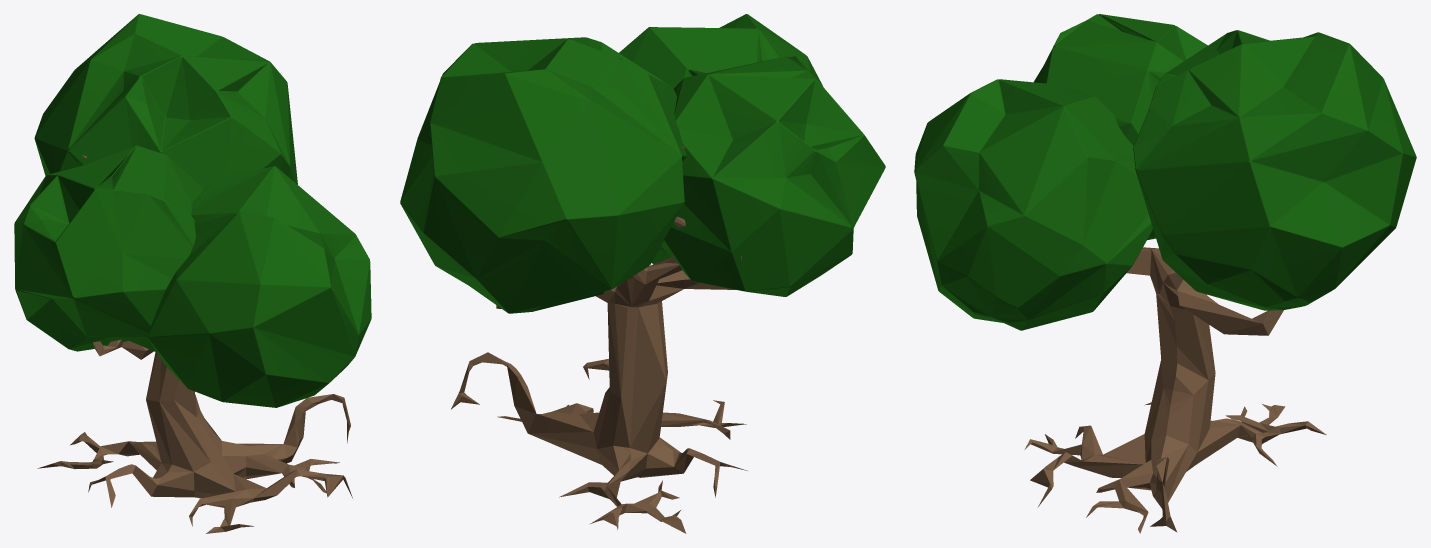
The model's file is Tree.fbx.
The picture shows the model from 3 angles, left to right: view 1: azimuth 30°, elevation 25°; view 2: azimuth 150°, elevation 25°; view 3: azimuth 270°, elevation 25°; orthographic projection. The views are drawn at different scales.
Visible parts, largest first — view 1: Tree; view 2: Tree; view 3: Tree.
Part boxes in pixels (x1,y1,x2,y2): Tree: [14, 14, 371, 533]; Tree: [400, 14, 885, 533]; Tree: [914, 14, 1416, 533].
Bounding box in the file's own units: 533 × 605 × 620.
